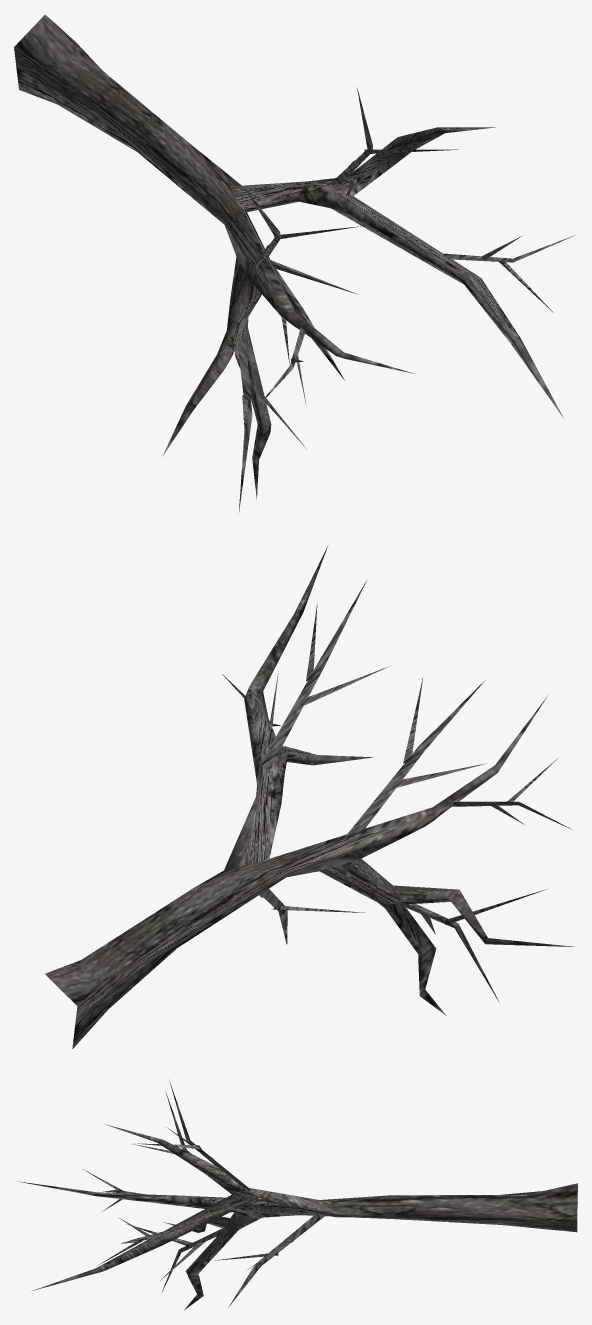
3 renders of one model, top to bottom at view 1: azimuth 30°, elevation 25°; view 2: azimuth 150°, elevation 25°; view 3: azimuth 270°, elevation 25°, orthographic. The views are drawn at different scales.
Visible parts, largest first — view 1: model_Object75; view 2: model_Object75; view 3: model_Object75.
Boxes of the visible parts, x1=… form: model_Object75: x1=14, y1=14, x2=574, y2=514; model_Object75: x1=45, y1=546, x2=574, y2=1048; model_Object75: x1=17, y1=1081, x2=577, y2=1309.
Size of the model in its own units: 2.91 by 2.91 by 5.7.
Materials: 1 (1 with a texture image).
